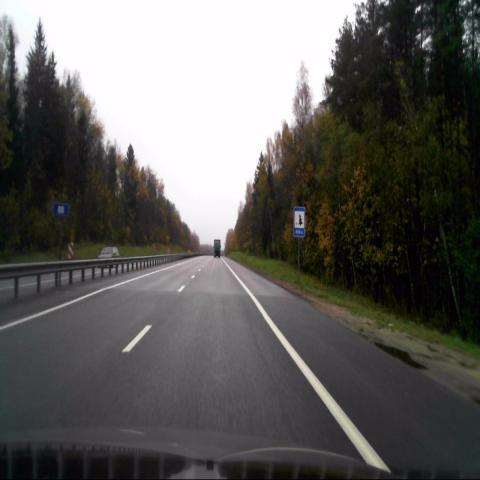7_11: (294, 206, 304, 236)
